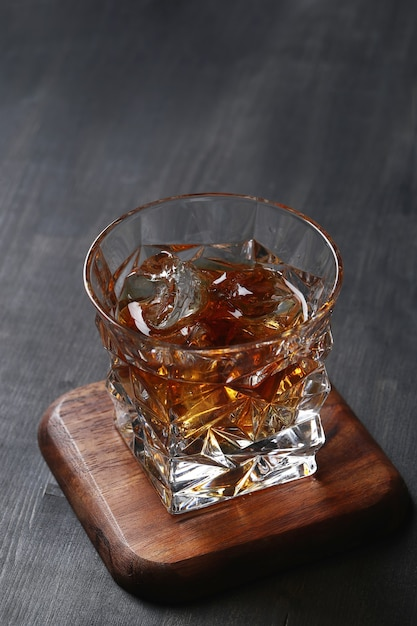alcohol: (83, 192, 344, 517)
